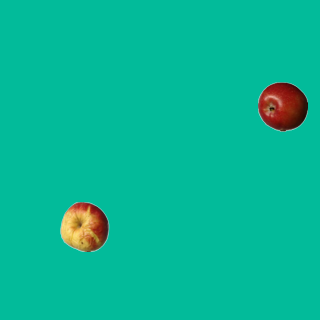Apple Braeburn: (257, 81, 307, 131)
Apple Red Yellow 1: (59, 201, 109, 251)
